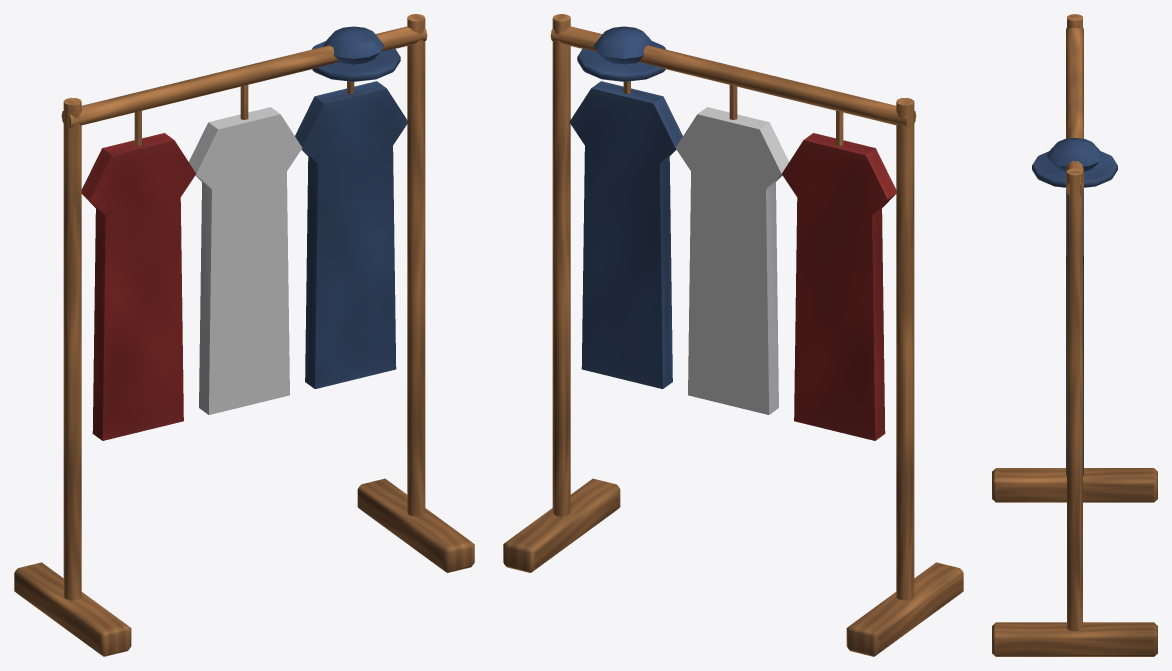
File: Furn_Life_ClothesRack.fbx
3 views of the same model, side by side, from view 1: azimuth 30°, elevation 25°; view 2: azimuth 150°, elevation 25°; view 3: azimuth 270°, elevation 25° (orthographic). The views are drawn at different scales.
Visible parts, largest first — view 1: Furn_Life_ClothesRack; view 2: Furn_Life_ClothesRack; view 3: Furn_Life_ClothesRack.
Boxes of the visible parts, box(x1,y1,x2,y2) form: Furn_Life_ClothesRack: box(14, 14, 474, 656); Furn_Life_ClothesRack: box(503, 14, 963, 656); Furn_Life_ClothesRack: box(992, 14, 1157, 656).
Bounding box in the file's own units: 1.2 × 1.6 × 0.5.
4 materials, 3 textured.
